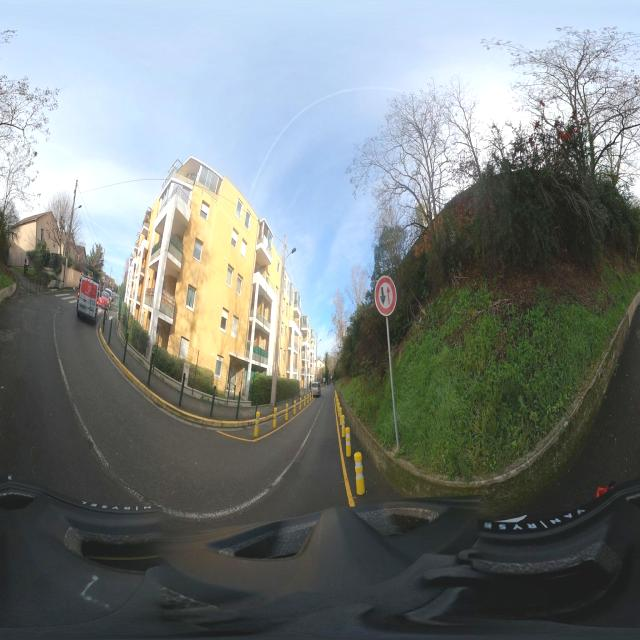car: (76, 277, 101, 324), (310, 381, 322, 398)
